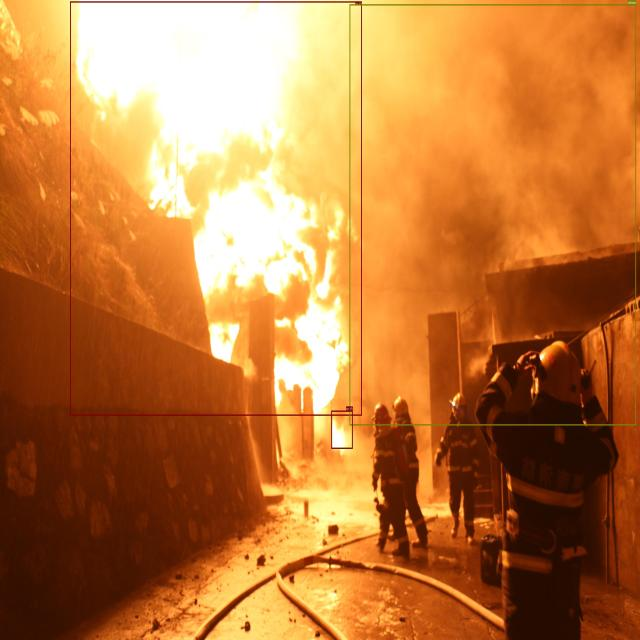fire: (70, 2, 362, 416), (331, 411, 353, 448)
smoke: (350, 4, 636, 425)
